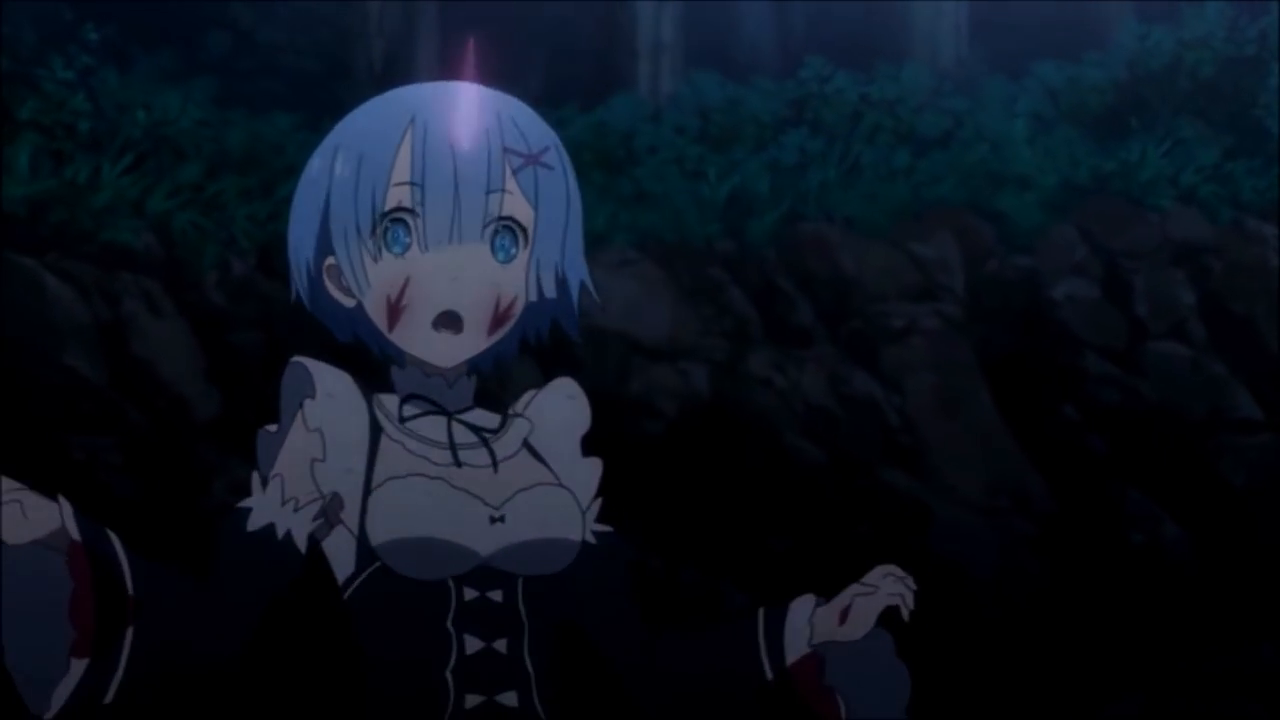REM: (281, 73, 604, 381)
